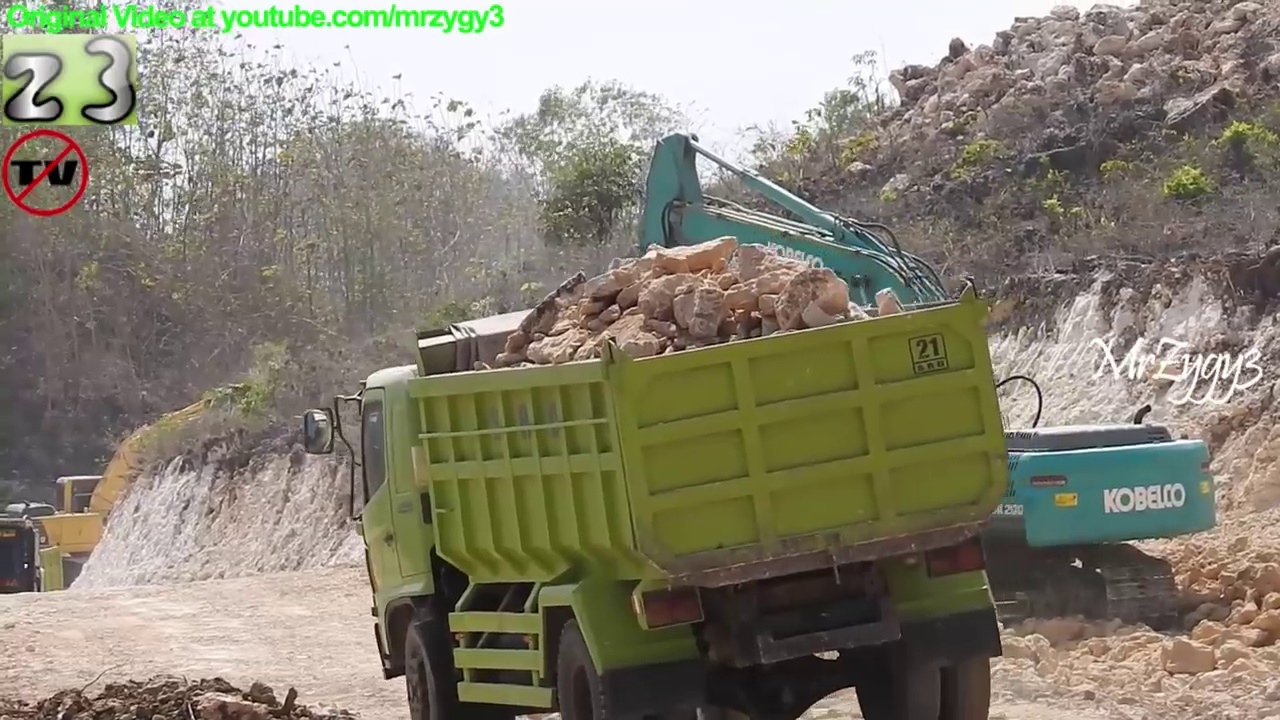excavator: (579, 124, 1230, 640), (1, 376, 265, 595)
truck: (299, 272, 1018, 720), (1, 506, 71, 614)
